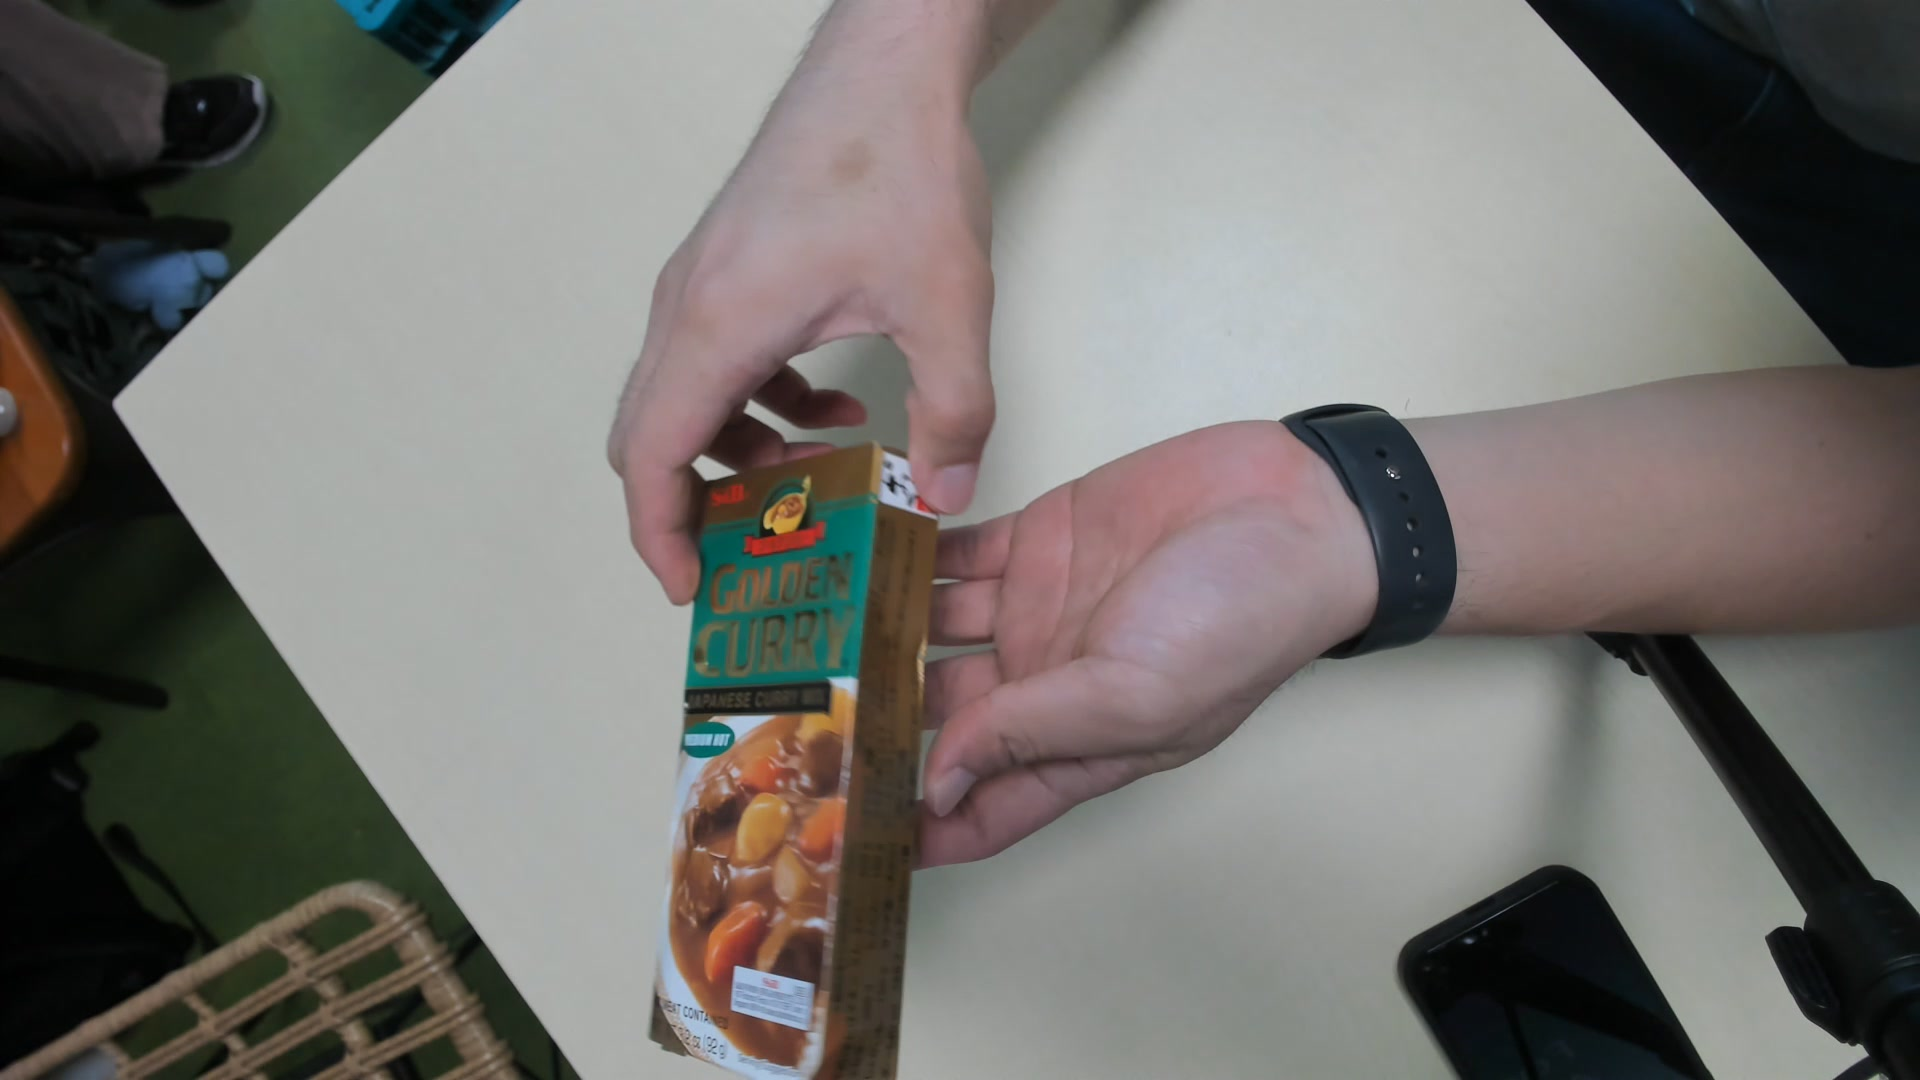OtherSauceDressing_0-99g_NonHalal_NonHealthy: (642, 444, 948, 1080)
